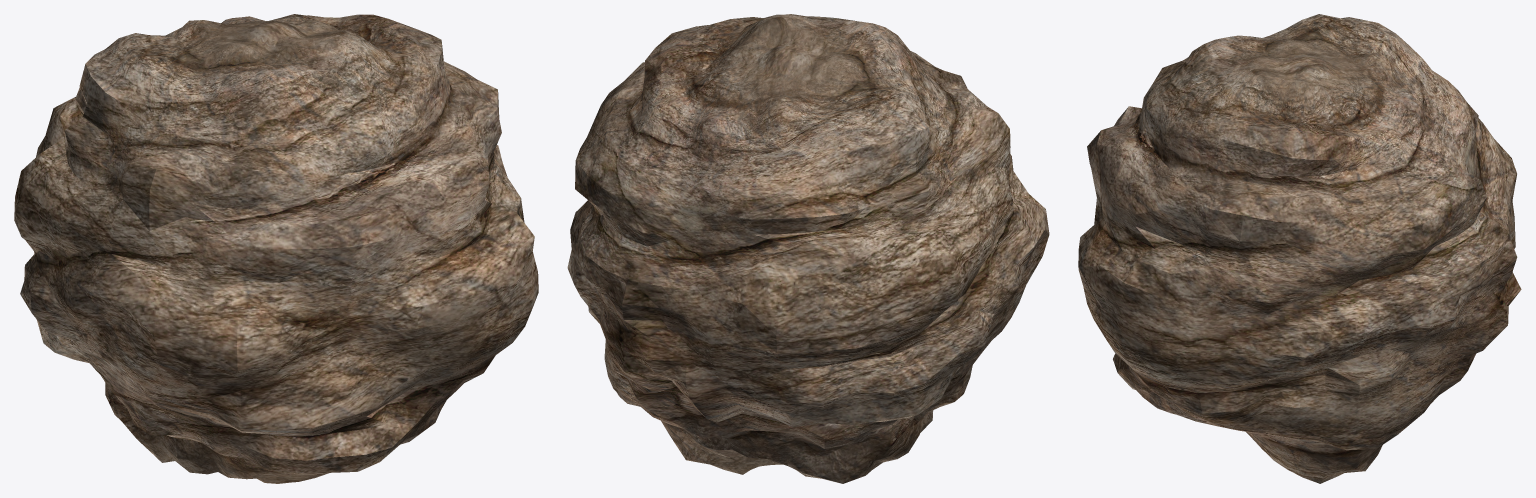
File: RockMediumRound_LOD0.obj
3 views of the same model, side by side, from view 1: azimuth 30°, elevation 25°; view 2: azimuth 150°, elevation 25°; view 3: azimuth 270°, elevation 25° (orthographic). The views are drawn at different scales.
Parts seen in each view (by area): view 1: RockMediumRound_LOD0; view 2: RockMediumRound_LOD0; view 3: RockMediumRound_LOD0.
Boxes of the visible parts, left/top/right/bottom form: RockMediumRound_LOD0: left=14, top=14, right=538, bottom=483; RockMediumRound_LOD0: left=567, top=14, right=1049, bottom=483; RockMediumRound_LOD0: left=1078, top=14, right=1521, bottom=483.
Bounding box in the file's own units: 2.27 × 2.23 × 2.23.
